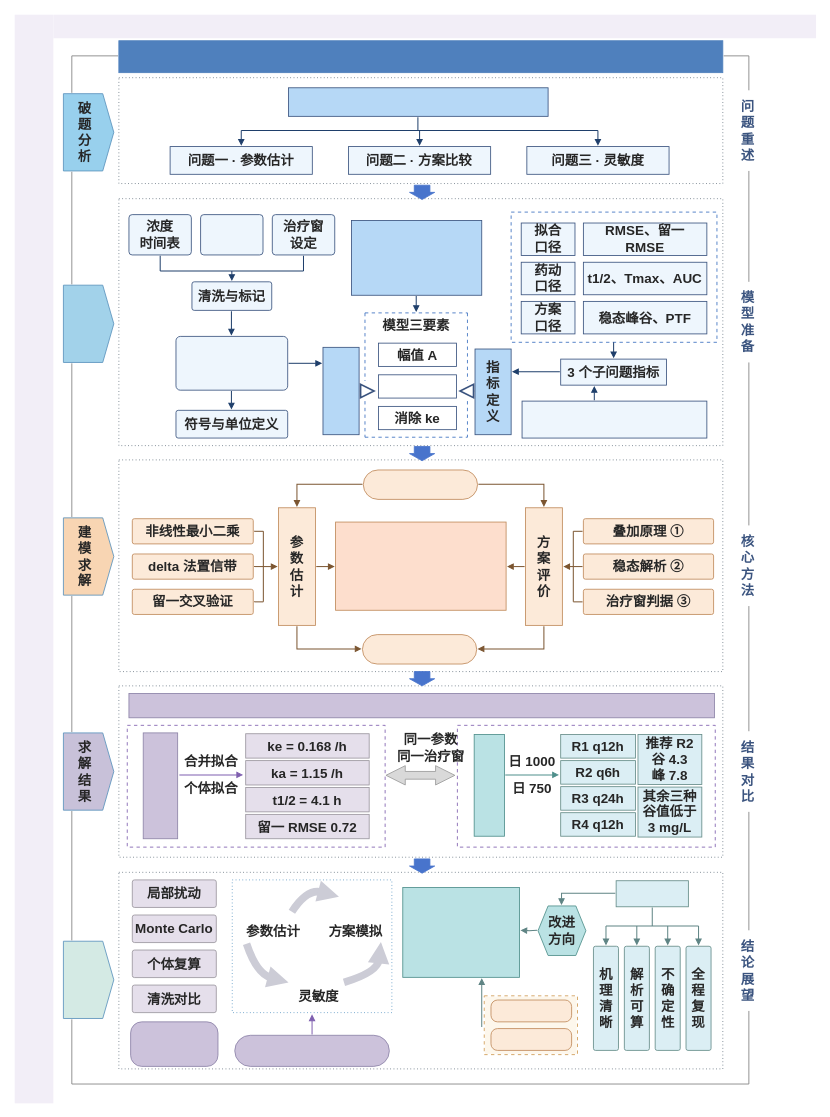
Image size: 830x1117. Some labels were removed from this diagram. The centre of each missing label's shape, as x and y in pixels:
seed=42 固定复现: (x=311, y=1050)
一室、一级吸收 一级消除、线性 个体仅参数不同: (x=231, y=363)
二室/非线性: (x=531, y=1039)
内容一：Bateman 单剂量浓度函数 C(t)=A(e^-ke·t −e^-ka·t) 三问共用: (x=416, y=257)
内容三：合并拟合参数与四种给药方案在同一治疗窗下的横向对比: (x=421, y=705)
内容二：curve_fit 估计 (A, ka, ke) → 叠加原理 生成多次给药曲线 → 稳态峰谷解析式: (x=420, y=565)
内容四：ke 敏感 R2 达标率 100% 模型评价与改进 推广到真实数据: (x=461, y=932)
单剂量视角（一）: (x=420, y=484)
参 数 估 计 结 果: (x=160, y=785)
口服药物血药浓度的一室模型参数估计与给药方案模拟（合成数据演示）: (x=420, y=56)
吸收 ka: (x=417, y=386)
多剂量视角（二）: (x=419, y=649)
数 据 假 设: (x=88, y=323)
方 案 比 较: (x=488, y=785)
机 理 建 模: (x=340, y=390)
样本 N = 36 条 有效 n = 33 条: (x=614, y=419)
模型评价: (x=651, y=893)
由 36 个采样点反推药动参数并设计方案: (x=418, y=101)
留一交叉 验证: (x=174, y=1043)
真实临床: (x=531, y=1010)
给药 剂量: (x=231, y=234)
评 价 推 广: (x=88, y=979)
